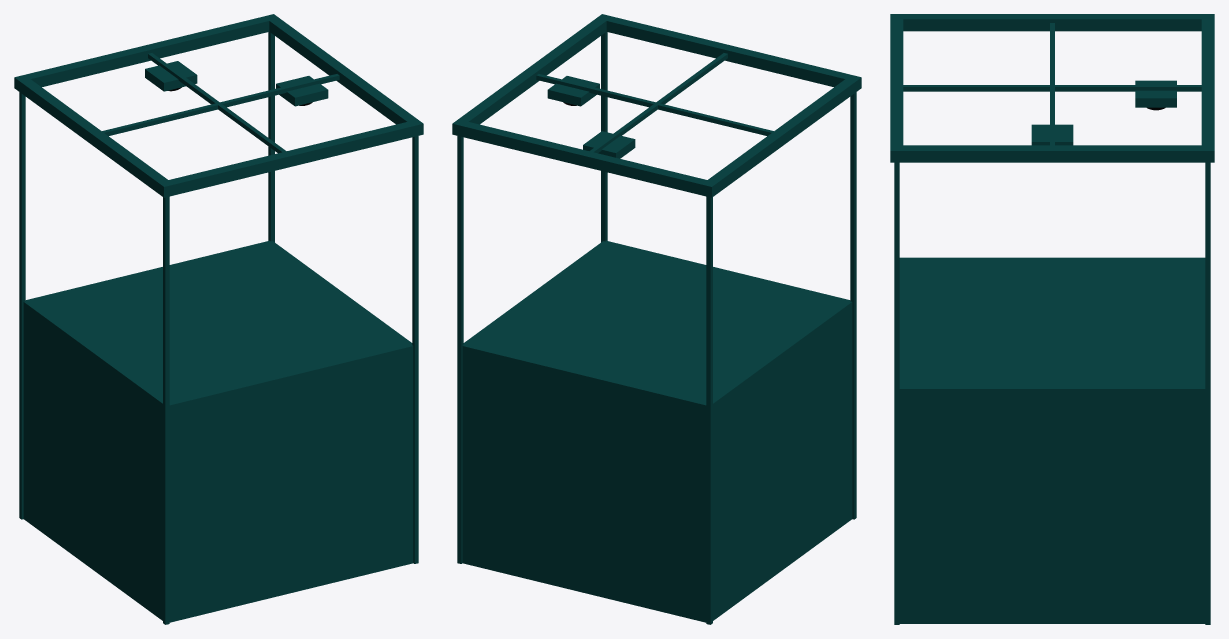
Rendered from assemblycontainer.dae.
3 views of the same model, side by side, from view 1: azimuth 30°, elevation 25°; view 2: azimuth 150°, elevation 25°; view 3: azimuth 270°, elevation 25° (orthographic). The views are drawn at different scales.
Parts seen in each view (by area): view 1: assemblycontainer; view 2: assemblycontainer; view 3: assemblycontainer.
Boxes of the visible parts, x1,y1,x2,y2 form: assemblycontainer: (14, 14, 423, 624); assemblycontainer: (452, 14, 861, 624); assemblycontainer: (890, 14, 1214, 624).
Bounding box in the file's own units: 1.25 × 1.25 × 2.02.
